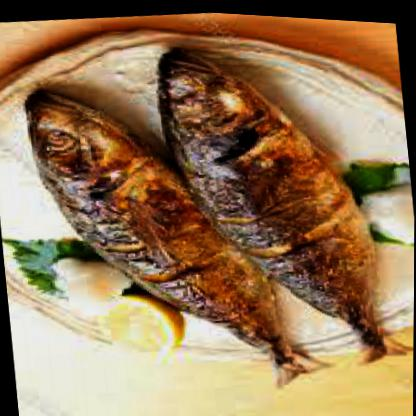grilled mackerel: (36, 79, 223, 380), (198, 37, 376, 351)
